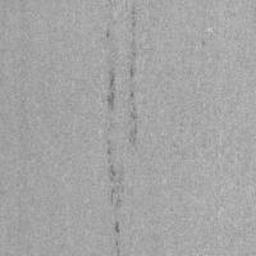Inclusion: (105, 65, 128, 256), (125, 4, 140, 146), (105, 27, 111, 38)
